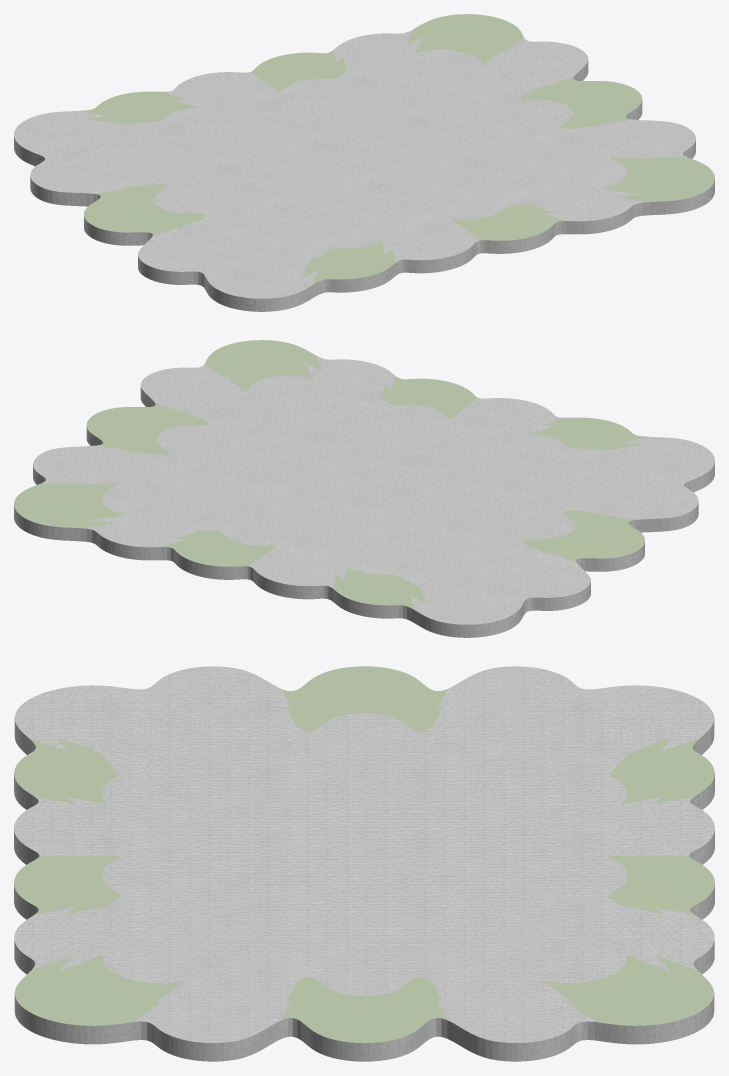
File: scallop-rug.glb
3 renders of one model, top to bottom at view 1: azimuth 30°, elevation 25°; view 2: azimuth 150°, elevation 25°; view 3: azimuth 270°, elevation 25°, orthographic. The views are drawn at different scales.
Parts seen in each view (by area): view 1: catalog_surface_RealismUV; view 2: catalog_surface_RealismUV; view 3: catalog_surface_RealismUV.
Part boxes in pixels (<box>): catalog_surface_RealismUV: <box>14,14,714,311</box>; catalog_surface_RealismUV: <box>14,340,714,637</box>; catalog_surface_RealismUV: <box>14,666,714,1061</box>.
Size of the model in its own units: 1.7 by 0.0405 by 1.34.
Materials: 3 (2 with a texture image).
